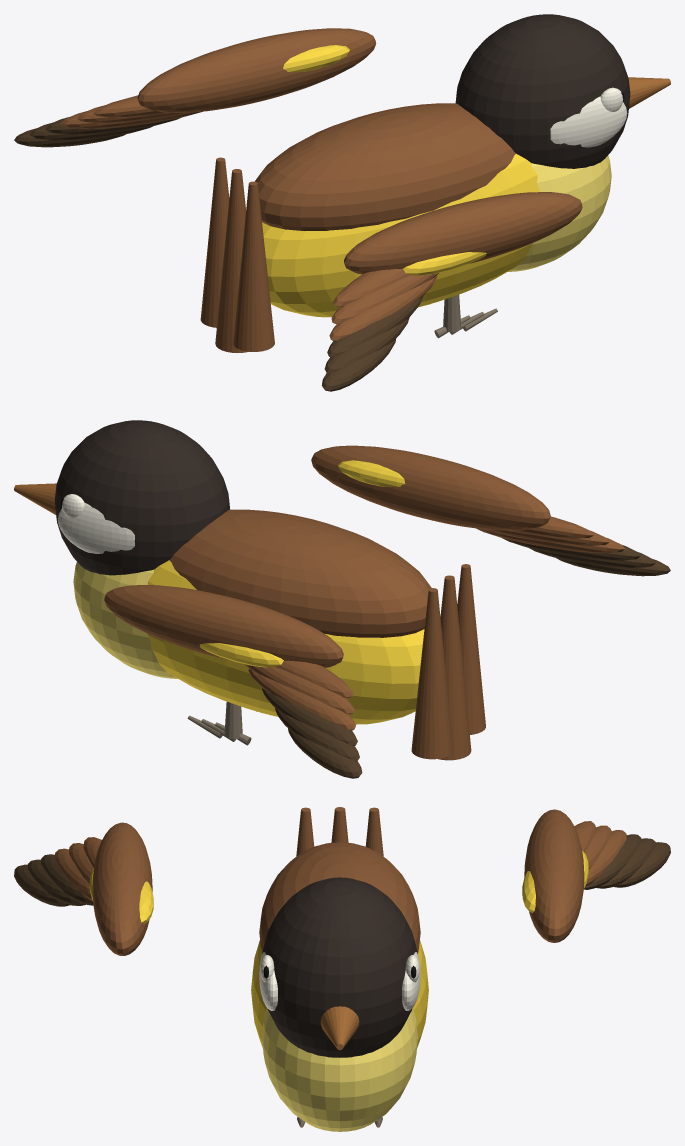
The model's file is bichofue.glb.
3 views of the same model, one above another, from view 1: azimuth 30°, elevation 25°; view 2: azimuth 150°, elevation 25°; view 3: azimuth 270°, elevation 25° (orthographic). The views are drawn at different scales.
Visible parts, largest first — view 1: Dorso_marron, Cabeza, Cuerpo, Ala_R_superior, Ala_L_superior, Pecho_amarillo, Pluma_cola_1, Pluma_cola_2, Pluma_cola_3, Franja_blanca, Ala_L_pluma_3, Ala_L_pluma_2 (+14 smaller); view 2: Dorso_marron, Cabeza, Cuerpo, Ala_L_superior, Ala_R_superior, Pecho_amarillo, Pluma_cola_3, Pluma_cola_2, Pluma_cola_1, Franja_blanca.001, Ala_R_pluma_3, Ala_R_pluma_2 (+14 smaller); view 3: Cabeza, Pecho_amarillo, Dorso_marron, Ala_R_superior, Ala_L_superior, Cuerpo, Pico, Ala_R_pluma_4, Ala_R_pluma_6, Ala_R_pluma_5, Ala_R_pluma_3, Ala_L_pluma_4 (+11 smaller).
Boxes of the visible parts, box(x1,y1,x2,y2) form: Dorso_marron: box(255, 103, 515, 230); Cabeza: box(455, 14, 630, 168); Cuerpo: box(262, 153, 539, 317); Ala_R_superior: box(137, 28, 376, 112); Ala_L_superior: box(344, 192, 582, 274); Pecho_amarillo: box(507, 155, 611, 271); Pluma_cola_1: box(233, 181, 274, 351); Pluma_cola_2: box(215, 169, 248, 352); Pluma_cola_3: box(200, 157, 229, 327); Franja_blanca: box(550, 96, 627, 147); Ala_L_pluma_3: box(329, 275, 437, 340); Ala_L_pluma_2: box(331, 273, 438, 323); Dorso_marron: box(169, 509, 431, 637); Cabeza: box(54, 420, 229, 575); Cuerpo: box(147, 560, 424, 724); Ala_L_superior: box(311, 445, 550, 530); Ala_R_superior: box(104, 585, 343, 667); Pecho_amarillo: box(73, 562, 177, 678); Pluma_cola_3: box(411, 588, 453, 759); Pluma_cola_2: box(438, 575, 471, 760); Pluma_cola_1: box(457, 564, 485, 734); Franja_blanca.001: box(58, 503, 134, 553); Ala_R_pluma_3: box(248, 668, 355, 730); Ala_R_pluma_2: box(244, 664, 354, 714); Cabeza: box(262, 877, 417, 1057); Pecho_amarillo: box(262, 1008, 417, 1131); Dorso_marron: box(259, 842, 420, 952); Ala_R_superior: box(524, 809, 584, 942); Ala_L_superior: box(92, 822, 152, 955); Cuerpo: box(251, 940, 428, 1047); Pico: box(320, 1006, 359, 1050); Ala_R_pluma_4: box(584, 834, 641, 889); Ala_R_pluma_6: box(613, 842, 670, 887); Ala_R_pluma_5: box(597, 838, 655, 888); Ala_R_pluma_3: box(585, 830, 626, 886); Ala_L_pluma_4: box(41, 854, 93, 905).
Bounding box in the file's own units: 4.41 × 2.31 × 4.8.
